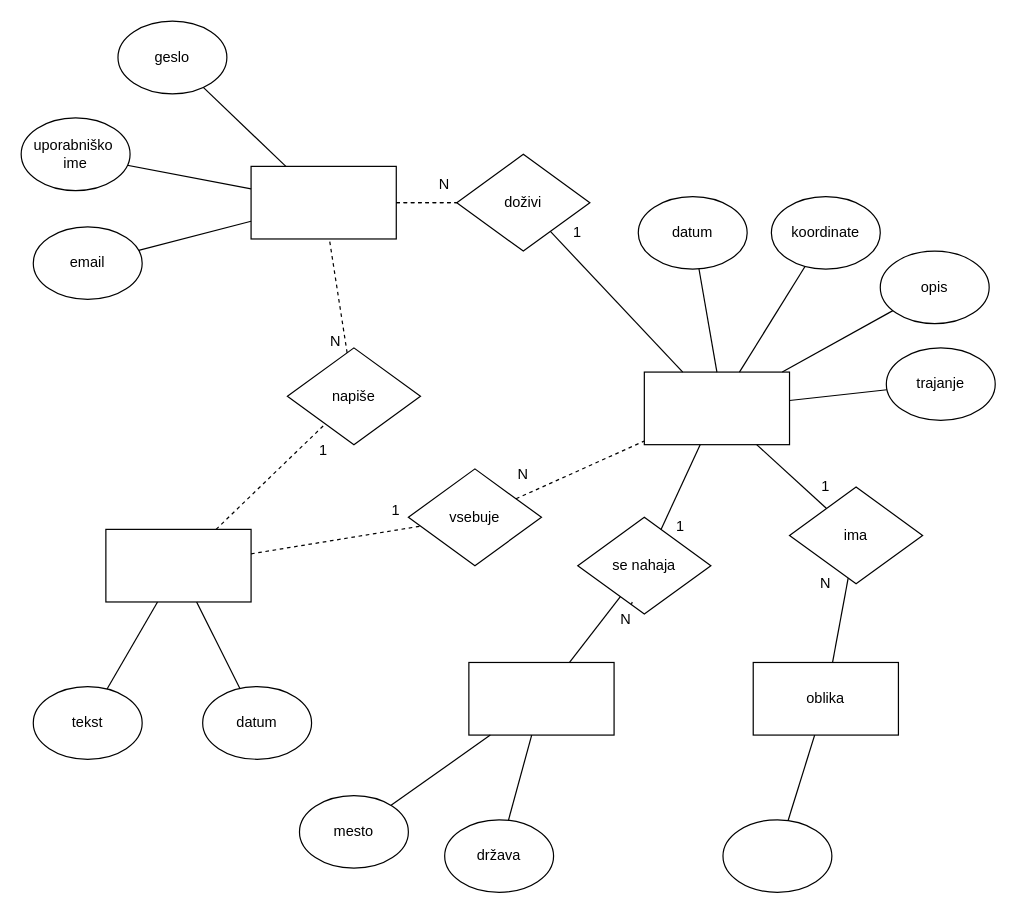
Image size: 1016x914. Some labels were removed from this diagram. The shapes that lost their labels are listed below. From the top down, each one's centre as x and y in pixels, then its label:
At point 323,202: "Uporabnik".
At point 716,408: "Opažanje".
At point 178,565: "komentar".
At point 541,698: "lokacija".
At point 777,855: "ime".
